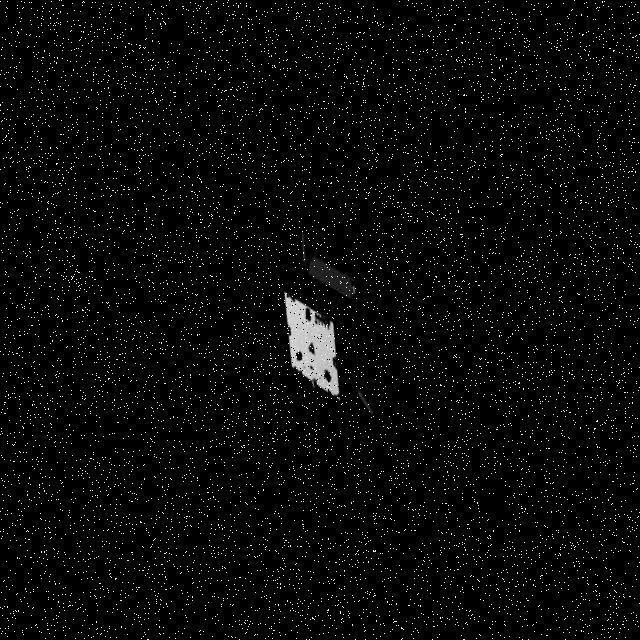medium_debris: (274, 250, 376, 406)
